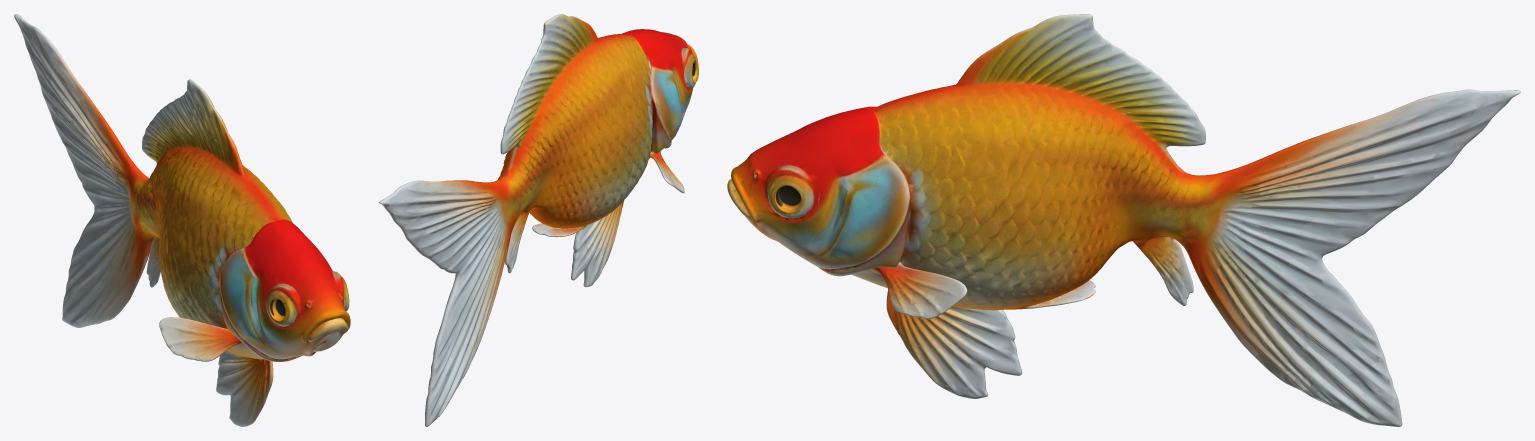
The model's file is Goldfish.glb.
3 renders of one model, left to right at view 1: azimuth 30°, elevation 25°; view 2: azimuth 150°, elevation 25°; view 3: azimuth 270°, elevation 25°, orthographic. The views are drawn at different scales.
Bounding box in the file's own units: 0.5677 × 1.09 × 1.9.
Materials: 1 (1 with a texture image).
